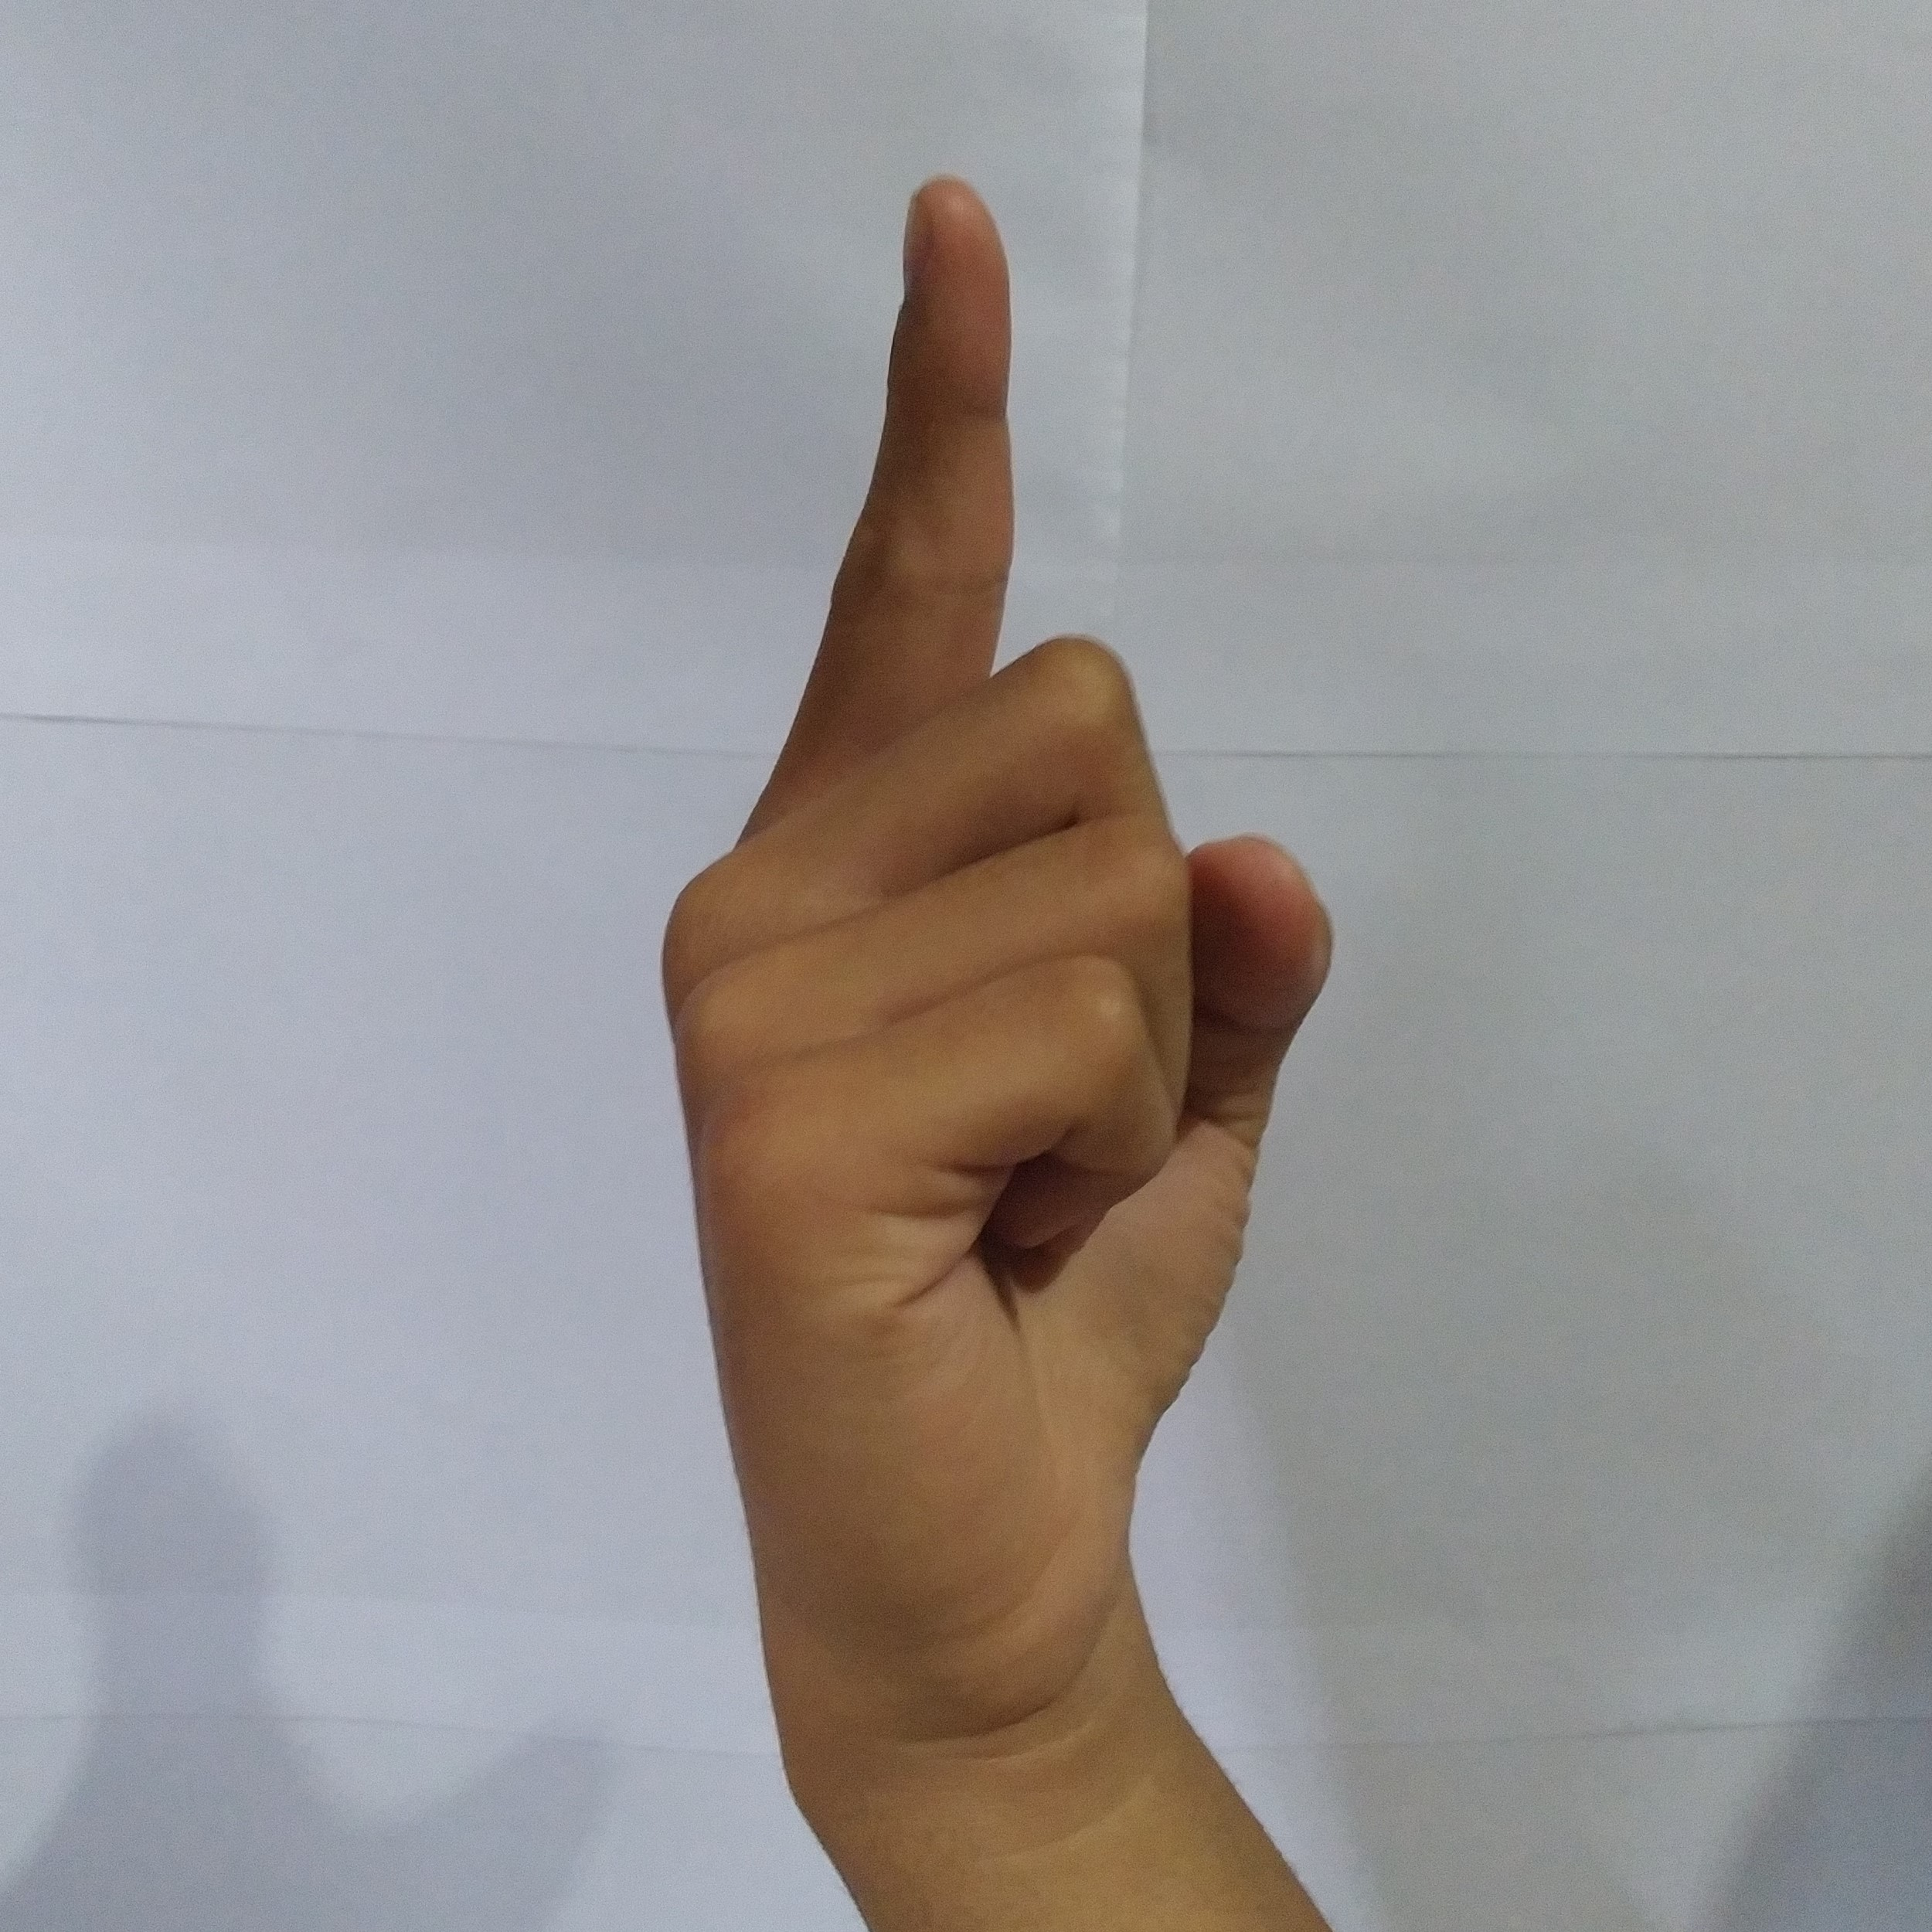D: (640, 156, 1353, 1598)
